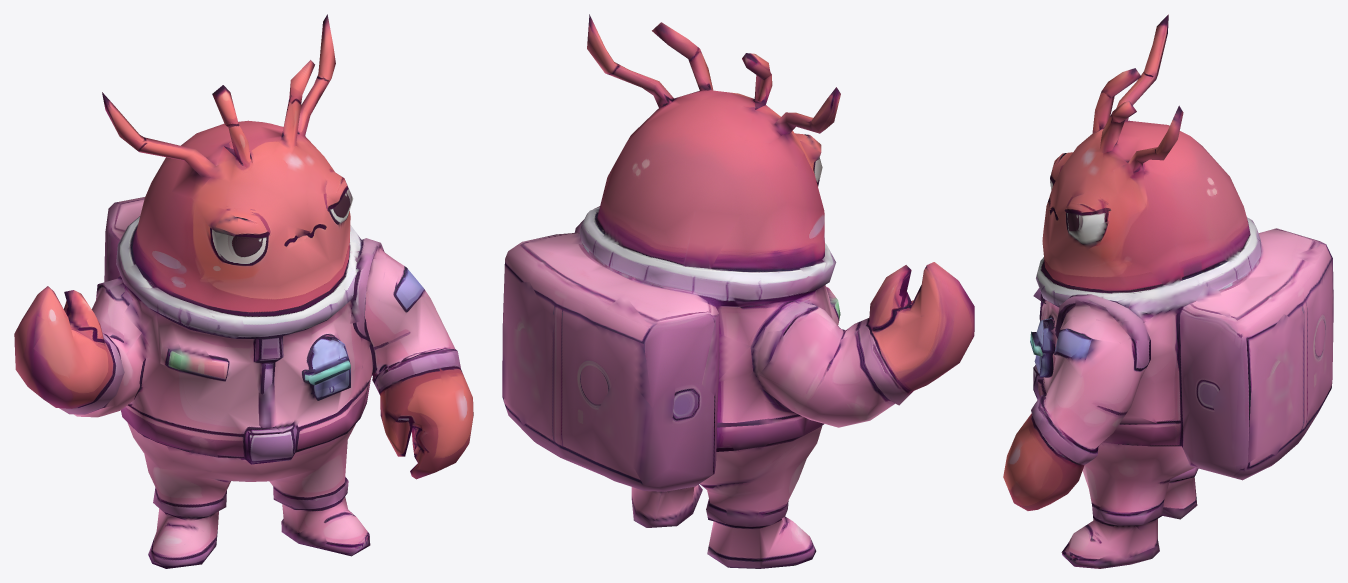
The model's file is character3.glb.
3 views of the same model, side by side, from view 1: azimuth 30°, elevation 25°; view 2: azimuth 150°, elevation 25°; view 3: azimuth 270°, elevation 25° (orthographic). The views are drawn at different scales.
Size of the model in its own units: 1.68 by 1.93 by 1.24.
1 material, 1 textured.
